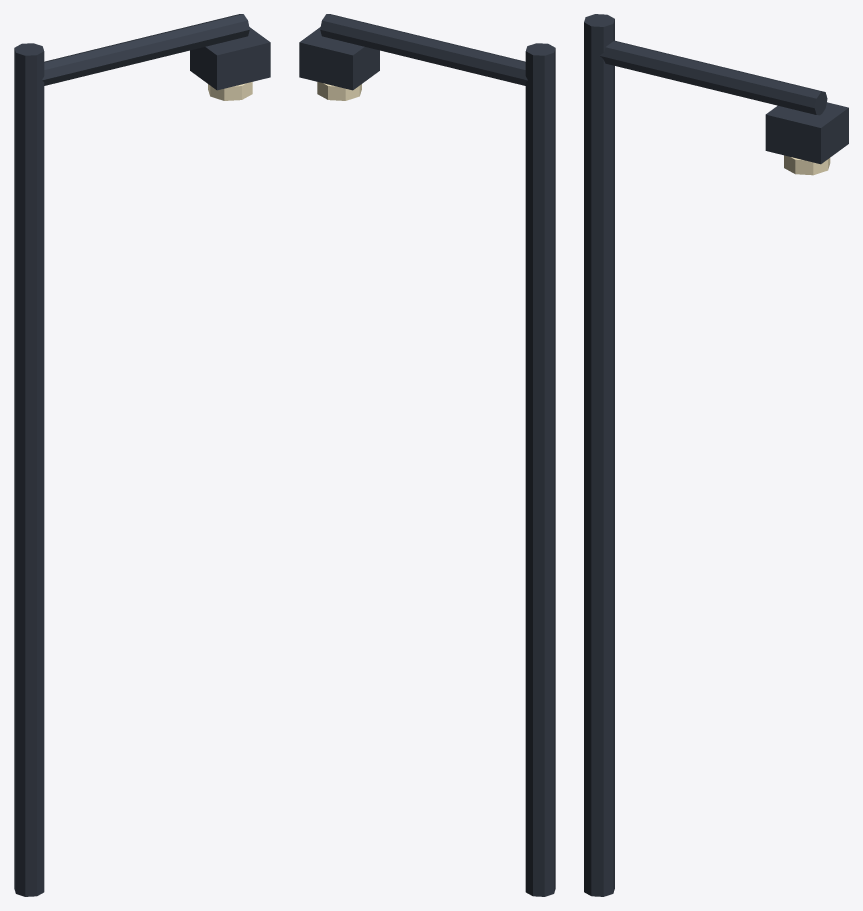
Rendered from streetlamp.obj.
3 renders of one model, left to right at view 1: azimuth 30°, elevation 25°; view 2: azimuth 150°, elevation 25°; view 3: azimuth 330°, elevation 25°, orthographic. The views are drawn at different scales.
Bounding box in the file's own units: 1.8 × 6 × 0.35.
